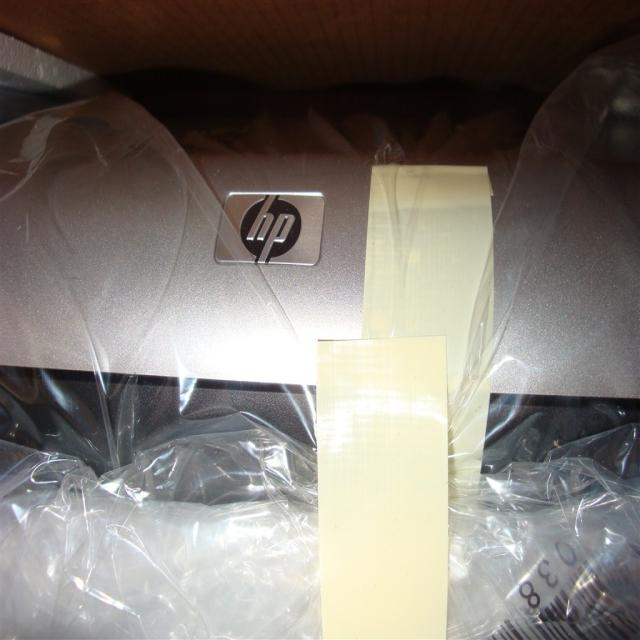HP: (213, 190, 328, 270)
